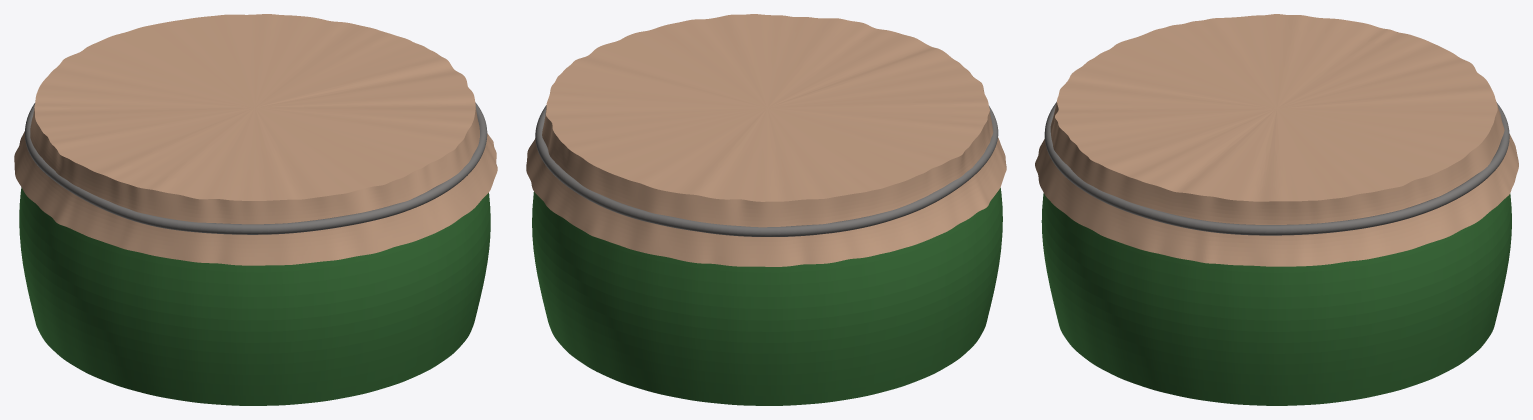
File: drum-huh2.fbx
3 views of the same model, side by side, from view 1: azimuth 30°, elevation 25°; view 2: azimuth 150°, elevation 25°; view 3: azimuth 270°, elevation 25° (orthographic).
Parts seen in each view (by area): view 1: skin.001, drum.001, skin-hold; view 2: skin.001, drum.001, skin-hold; view 3: skin.001, drum.001, skin-hold.
Part boxes in pixels (x1=…): skin.001: x1=14, y1=14, x2=497, y2=265; drum.001: x1=19, y1=187, x2=490, y2=405; skin-hold: x1=25, y1=102, x2=487, y2=234; skin.001: x1=526, y1=14, x2=1006, y2=266; drum.001: x1=532, y1=187, x2=1002, y2=405; skin-hold: x1=535, y1=105, x2=998, y2=236; skin.001: x1=1035, y1=14, x2=1518, y2=266; drum.001: x1=1041, y1=193, x2=1511, y2=405; skin-hold: x1=1044, y1=102, x2=1509, y2=235.
Size of the model in its own units: 5239 by 2465 by 5265.
